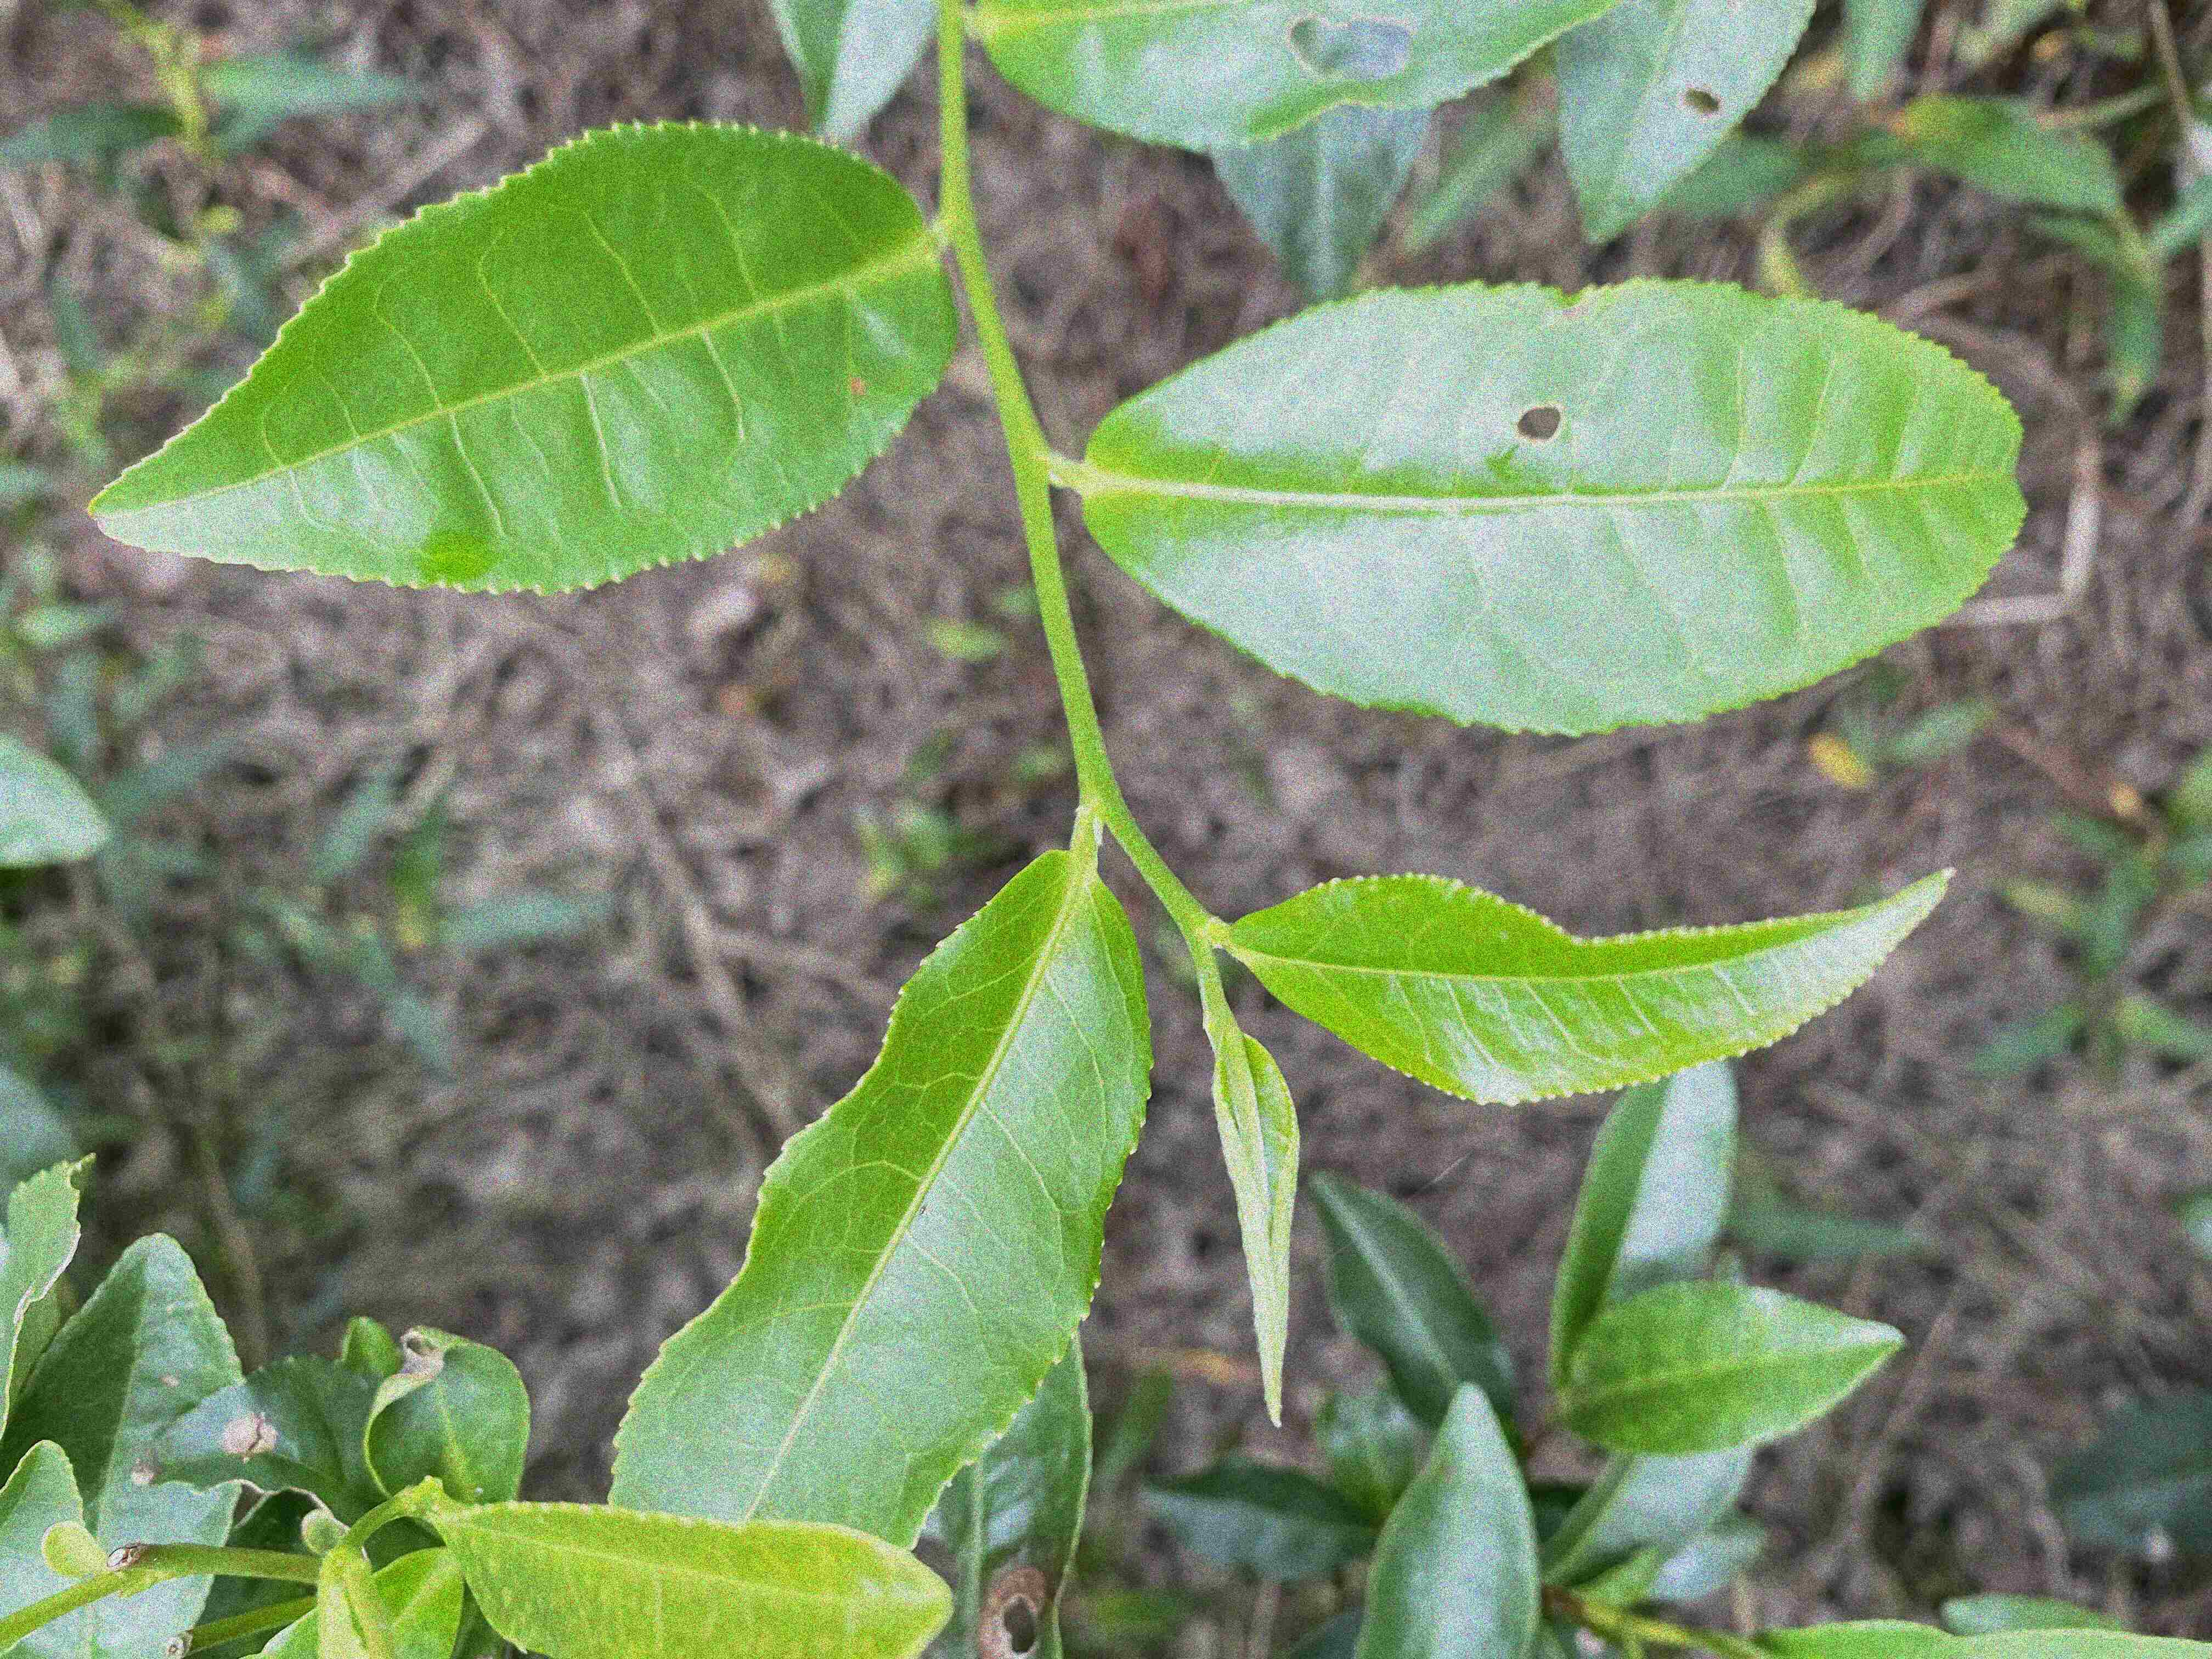chihuo_low: (1076, 277, 2029, 744), (981, 3, 1623, 153), (1555, 2, 1808, 249)
healthy: (606, 852, 1157, 1551), (1233, 870, 1951, 1110), (444, 1502, 953, 1656)
tanju_low: (89, 117, 960, 596)
